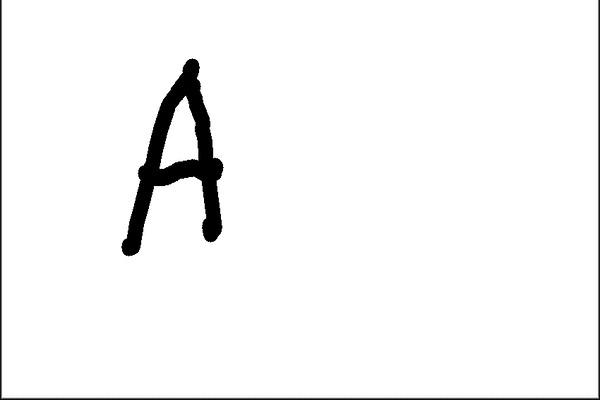A: (109, 54, 238, 264)
